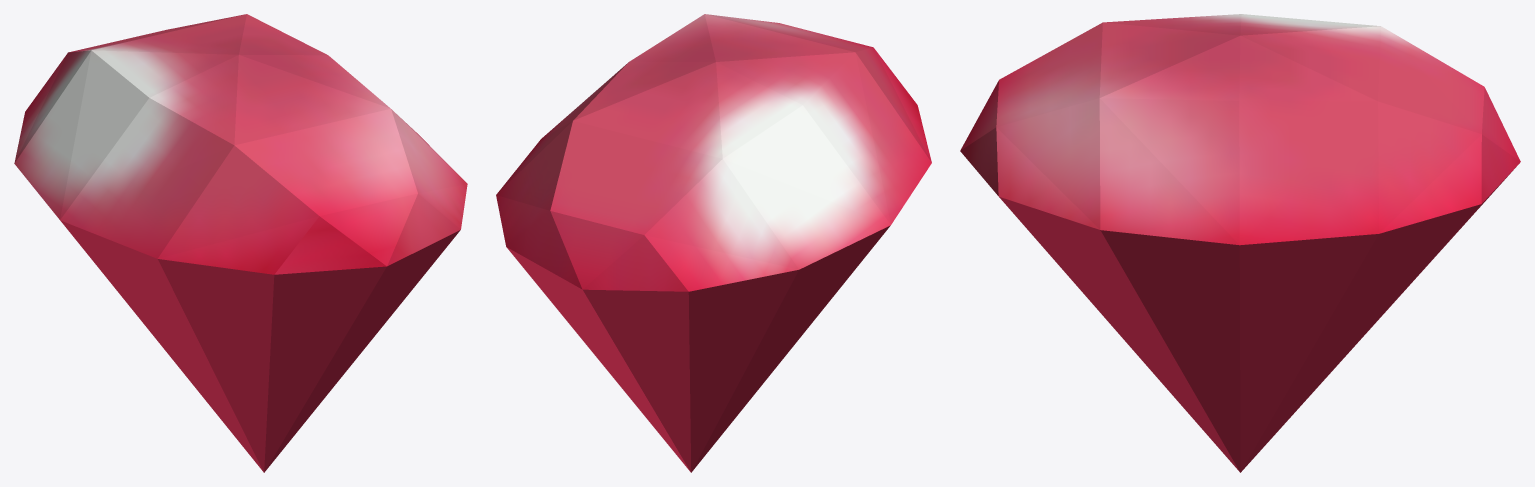
File: BR_Ninjask-Shiny01.obj
3 renders of one model, left to right at view 1: azimuth 30°, elevation 25°; view 2: azimuth 150°, elevation 25°; view 3: azimuth 270°, elevation 25°, orthographic.
Visible parts, largest first — view 1: tekkanin_c; view 2: tekkanin_c; view 3: tekkanin_c.
Boxes of the visible parts, x1=… form: tekkanin_c: x1=14, y1=14, x2=467, y2=472; tekkanin_c: x1=496, y1=14, x2=931, y2=472; tekkanin_c: x1=960, y1=14, x2=1520, y2=472.
Size of the model in its own units: 0.5486 by 0.6231 by 0.7453.
1 material, 1 textured.
